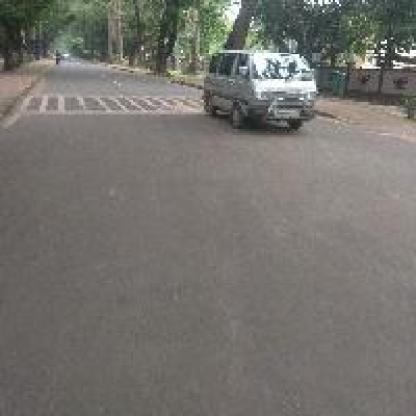Speed Bump: (23, 94, 193, 115)
